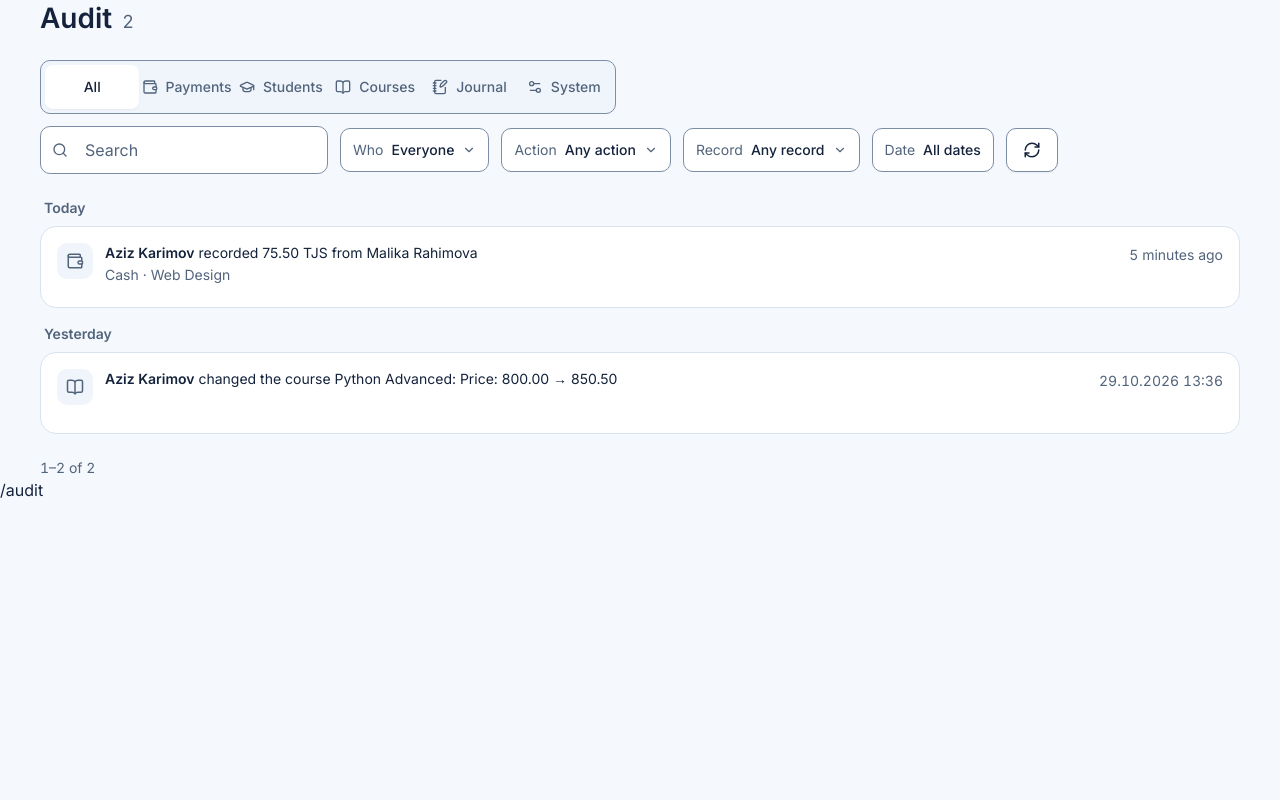
Test: Audit server filters › applies the actor through a listbox, resets to page one and removes the chip
The image size is (1280, 800).
Expected: the text "Aziz Karimov recorded 75.50 TJS from Malika Rahimova" is shown, [105,244,478,261]
Click the button "Who Everyone" at (415, 150), box [340,128,489,172]
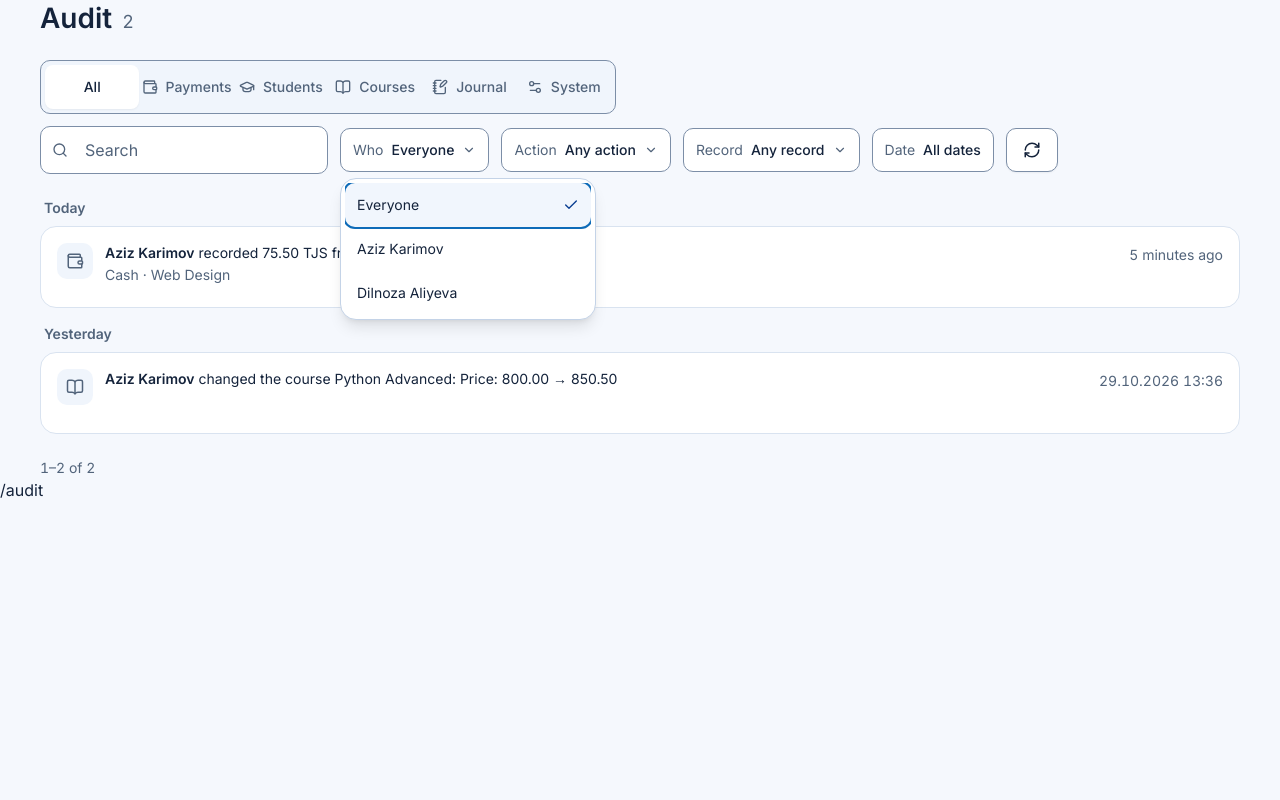
Click the option "Dilnoza Aliyeva" at (468, 293), box [345,271,591,315]
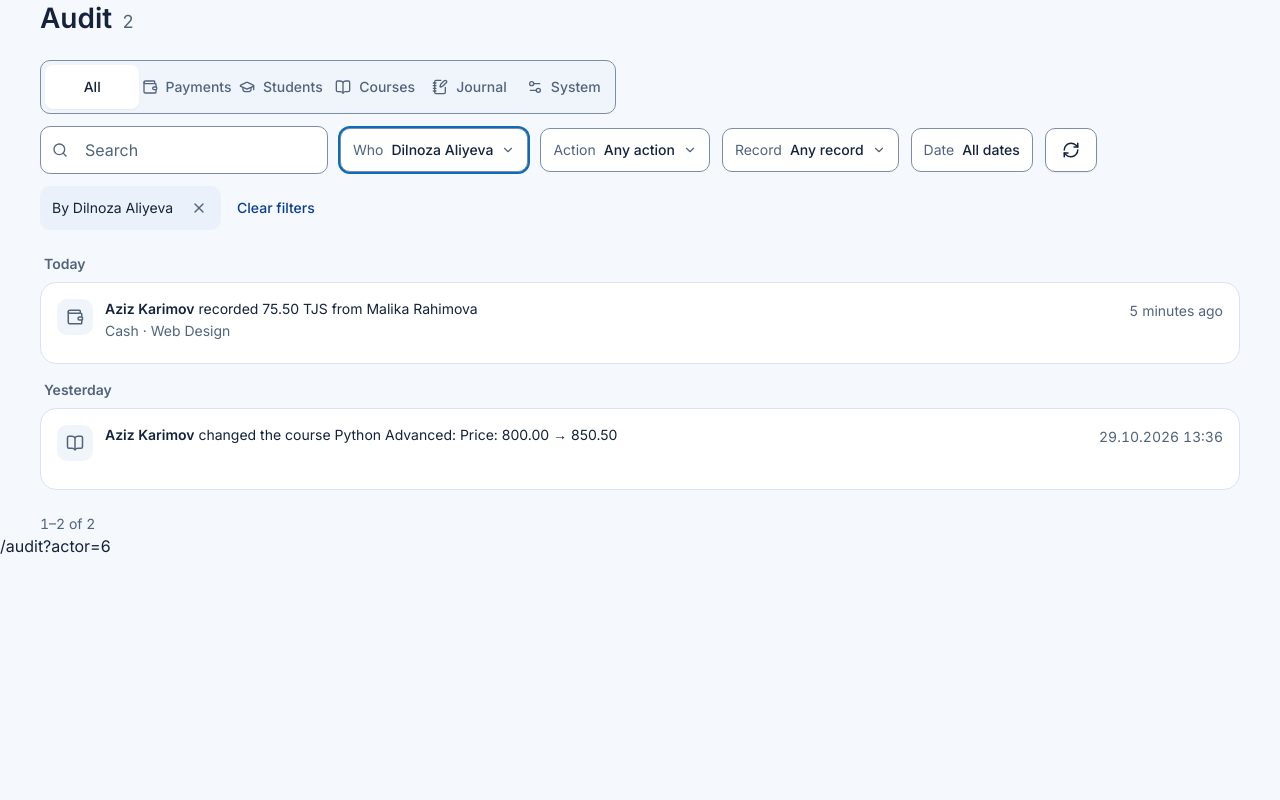
Now the text with test id "location" reads "/audit?actor=6", box [0,536,111,556]
Click the button named "Remove filter: By Dilnoza Aliyeva" at (199, 208), box [177,186,221,230]
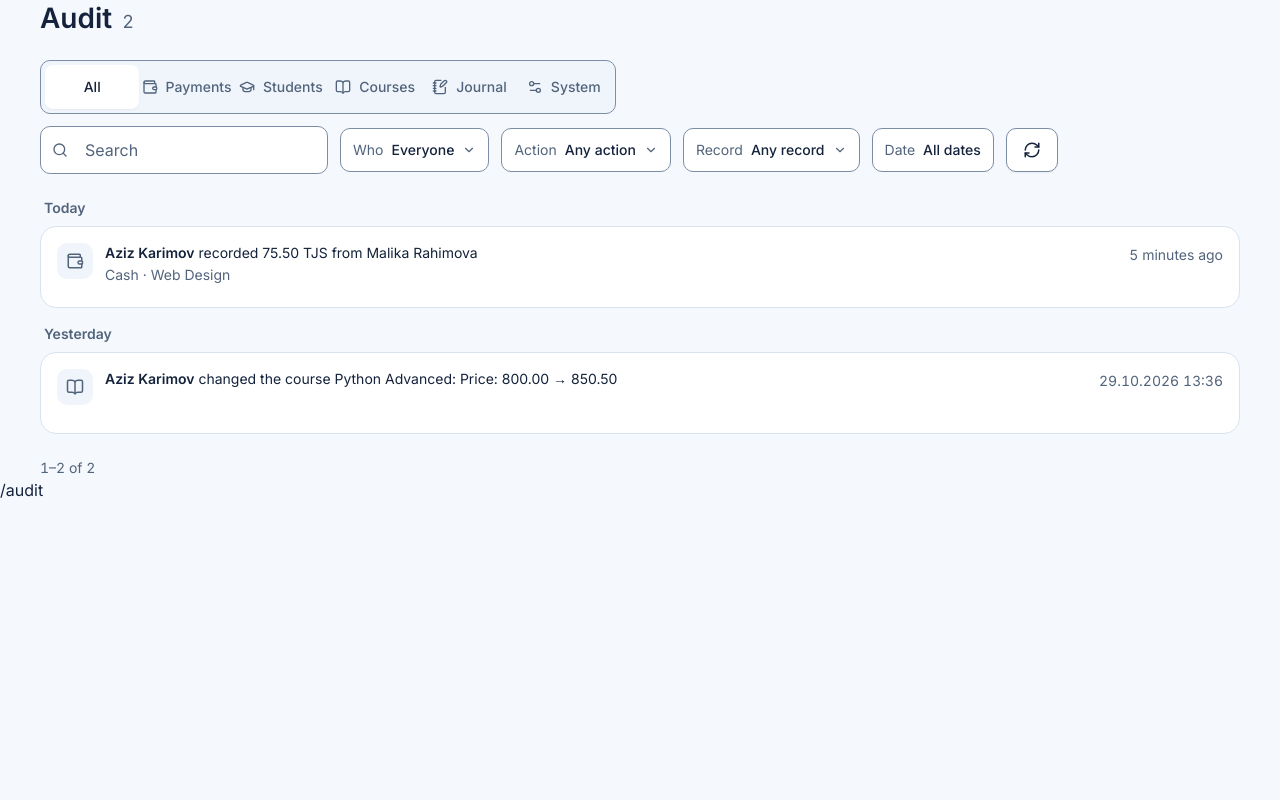
Now the text with test id "location" reads "/audit", box [0,480,43,500]
